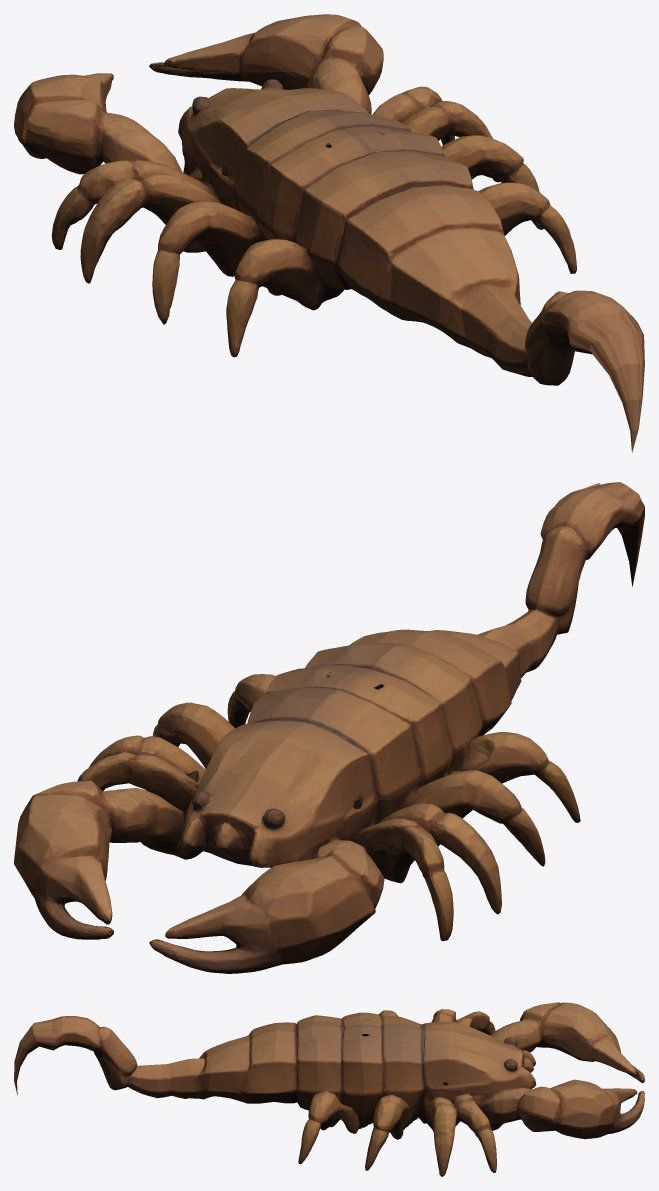
3 views of the same model, one above another, from view 1: azimuth 30°, elevation 25°; view 2: azimuth 150°, elevation 25°; view 3: azimuth 270°, elevation 25° (orthographic). The views are drawn at different scales.
Visible parts, largest first — view 1: world; view 2: world; view 3: world.
Part boxes in pixels (<box>): world: <box>14,14,644,452</box>; world: <box>14,482,644,973</box>; world: <box>14,1002,644,1176</box>.
Size of the model in its own units: 0.4812 by 0.1695 by 1.
1 material, 1 textured.
